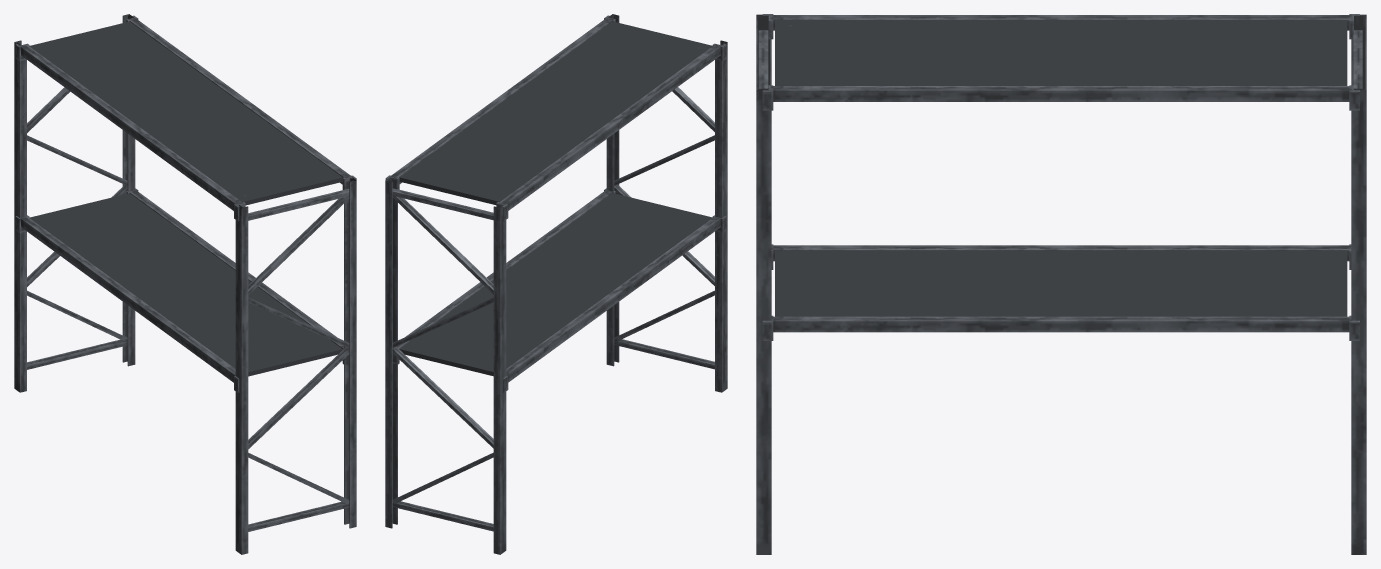
File: Shelf.fbx
The picture shows the model from 3 angles, left to right: view 1: azimuth 30°, elevation 25°; view 2: azimuth 150°, elevation 25°; view 3: azimuth 270°, elevation 25°; orthographic projection. The views are drawn at different scales.
Parts seen in each view (by area): view 1: Shelf.002; view 2: Shelf.002; view 3: Shelf.002.
Part boxes in pixels (left/top/right/bottom): Shelf.002: left=14, top=14, right=356, bottom=554; Shelf.002: left=385, top=14, right=727, bottom=554; Shelf.002: left=756, top=14, right=1366, bottom=554.
Size of the model in its own units: 202 by 564 by 671.
